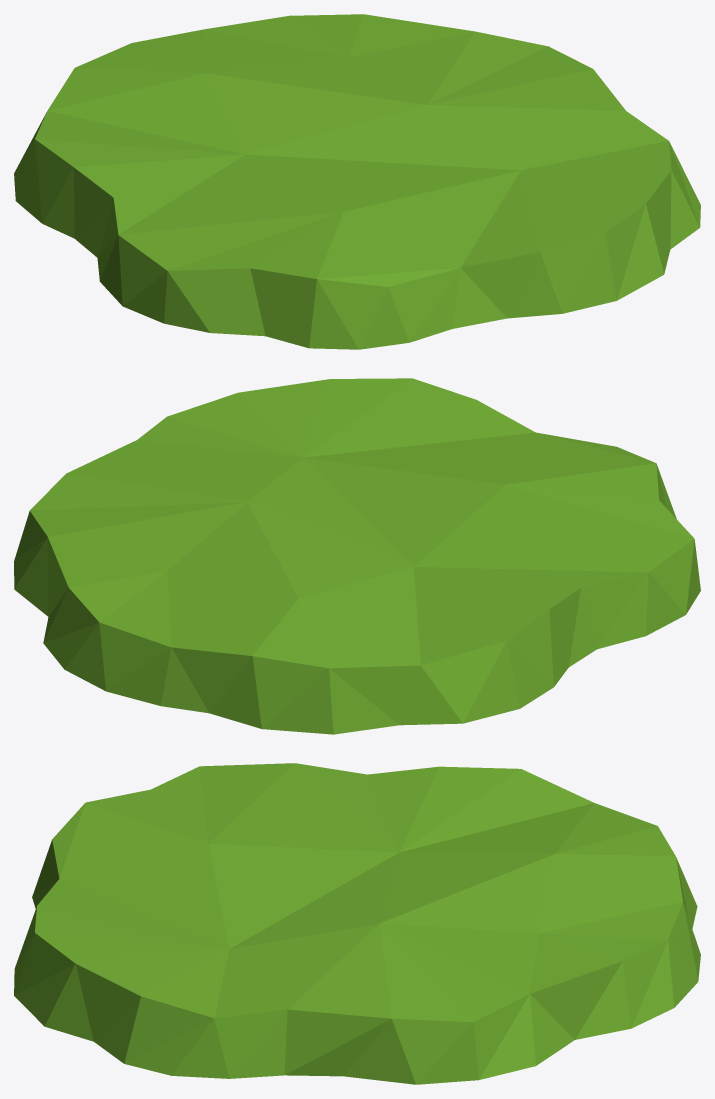
Rendered from um_grass003.FBX.
3 views of the same model, one above another, from view 1: azimuth 30°, elevation 25°; view 2: azimuth 150°, elevation 25°; view 3: azimuth 270°, elevation 25° (orthographic). The views are drawn at different scales.
Visible parts, largest first — view 1: um_grass003; view 2: um_grass003; view 3: um_grass003.
Boxes of the visible parts, x1,y1,x2,y2 form: um_grass003: (14,14,700,349); um_grass003: (14,378,700,734); um_grass003: (14,763,700,1084).
Bounding box in the file's own units: 1.82 × 0.2145 × 1.92.
